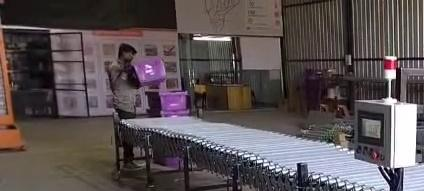box: (133, 57, 165, 85)
